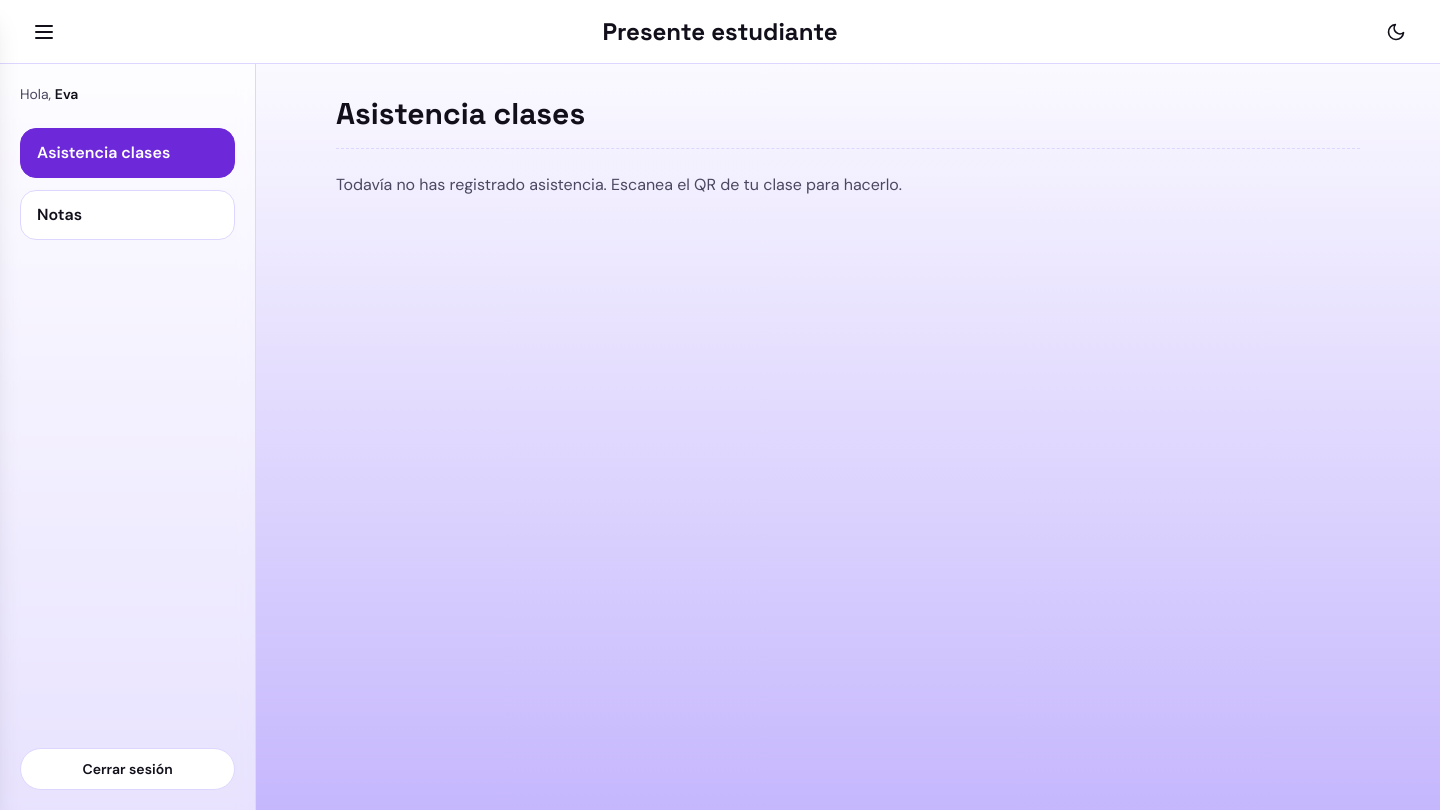
Test: PanelEstudiante › si el servidor rechaza la nota muestra el motivo y conserva el texto
Click the button "Notas" at x=128, y=215, box [20,190,235,240]
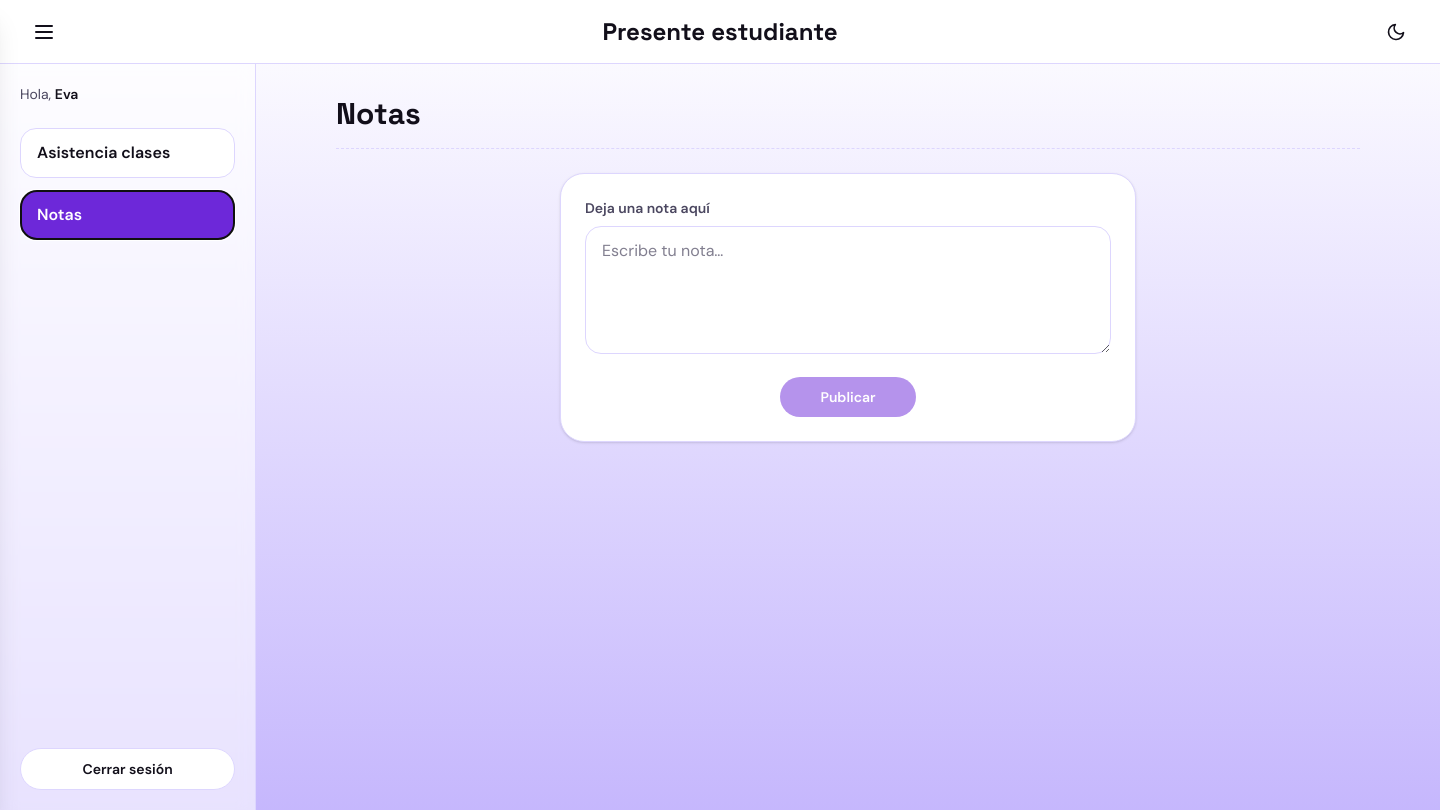
Type "texto" into the text box labelled "Deja una nota aquí" at x=848, y=290, box [585,226,1111,354]
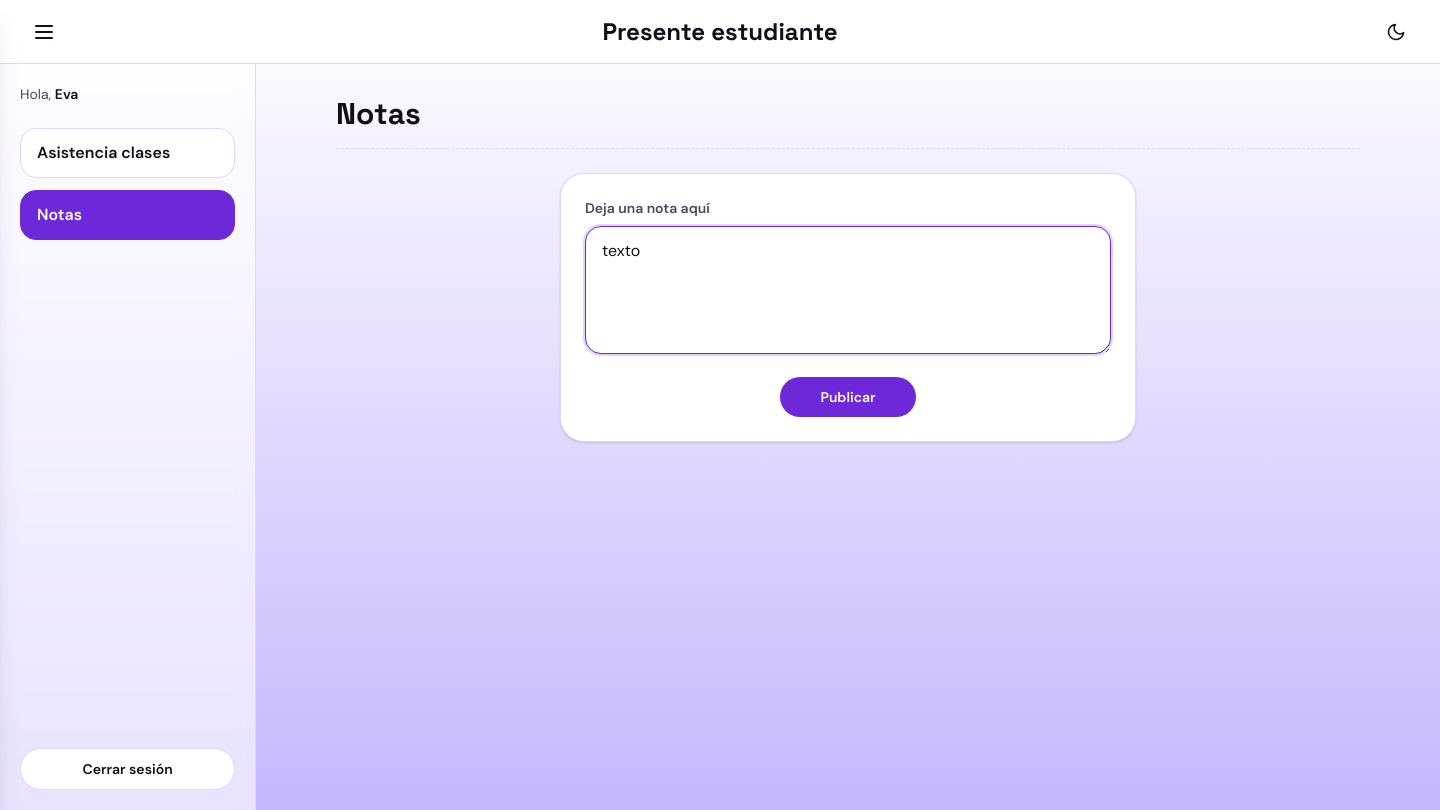
Click the button "Publicar" at x=848, y=397, box [780,377,916,417]
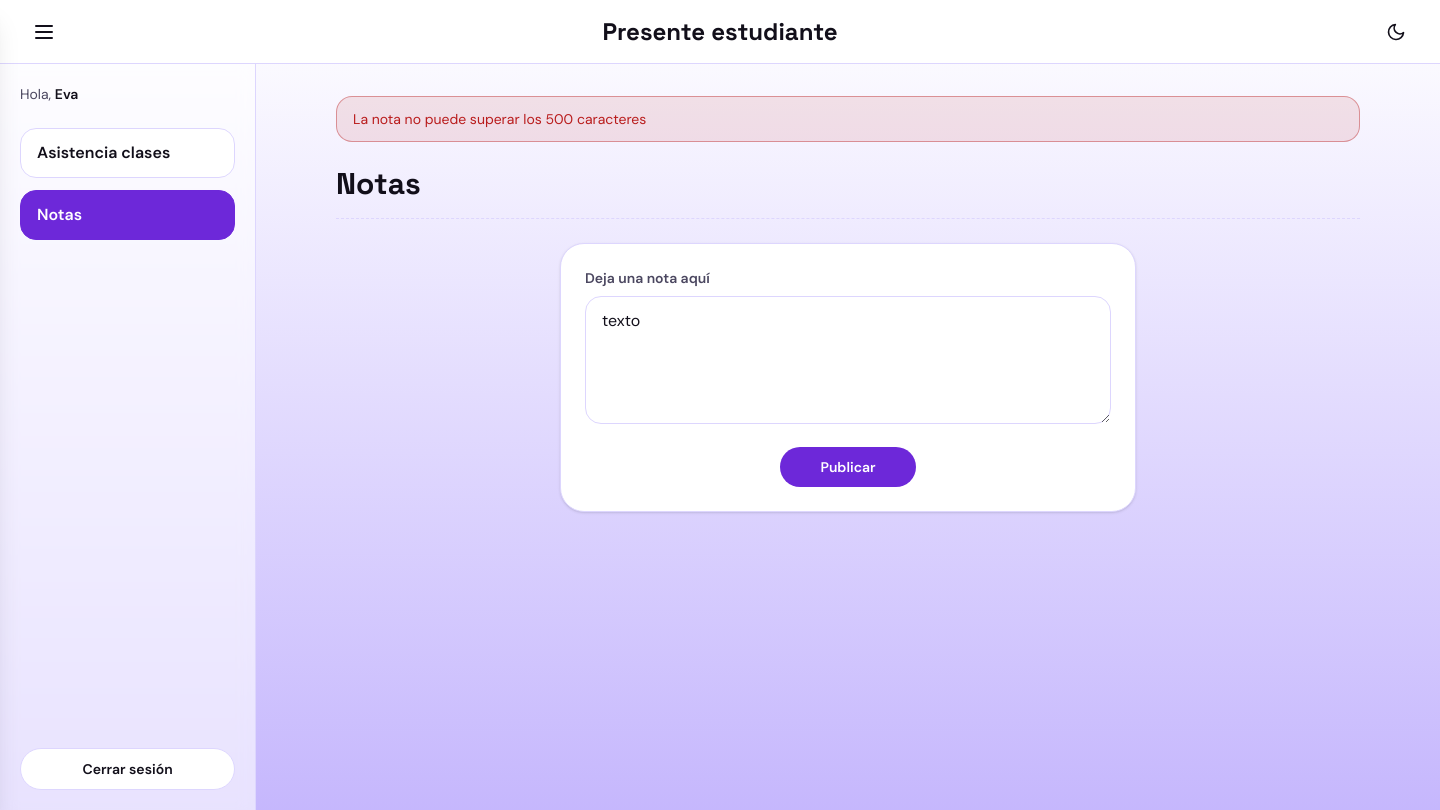
Result: the message reads "La nota no puede superar los 500 caracteres" at [353,110,646,128]
